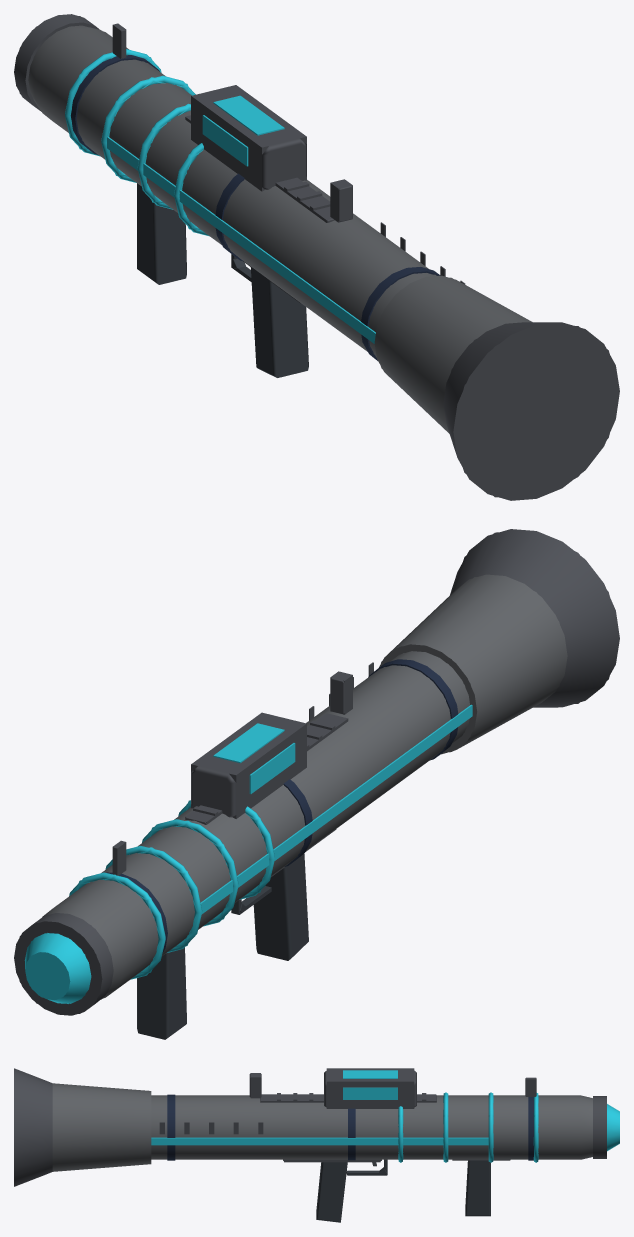
The model's file is la_plasma.glb.
The picture shows the model from 3 angles, top to bottom: view 1: azimuth 30°, elevation 25°; view 2: azimuth 150°, elevation 25°; view 3: azimuth 270°, elevation 25°; orthographic projection. The views are drawn at different scales.
Visible parts, largest first — view 1: L0, L1; view 2: L0, L1; view 3: L0, L1.
Boxes of the visible parts, x1,y1,x2,y2 form: L0: [14, 14, 619, 500]; L1: [19, 16, 619, 498]; L0: [14, 529, 619, 1039]; L1: [14, 532, 609, 1014]; L0: [14, 1068, 619, 1222]; L1: [14, 1068, 619, 1186].
Bounding box in the file's own units: 0.185 × 0.2475 × 0.94.
